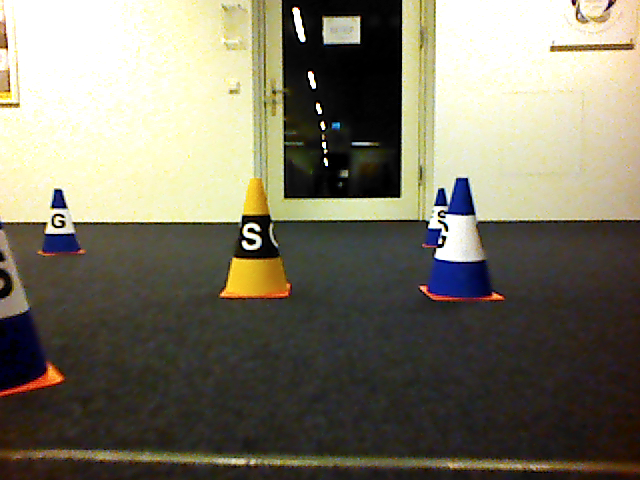bluecone: (423, 178, 508, 303), (38, 187, 85, 259)
yellowcone: (218, 177, 294, 300)
